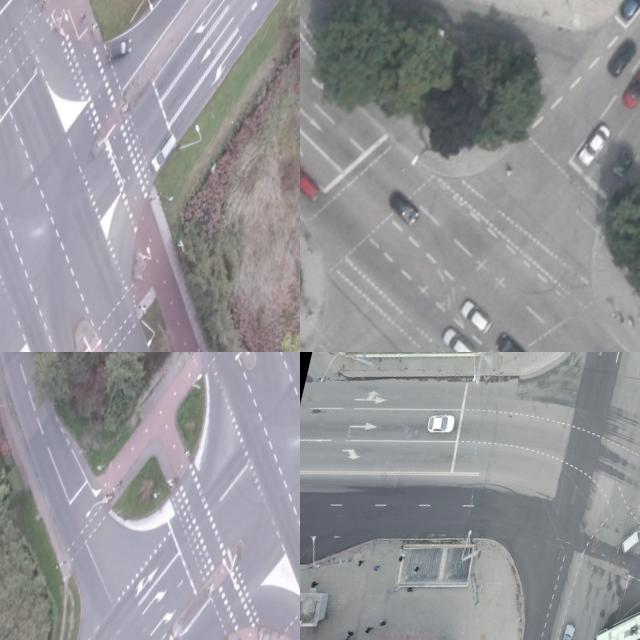UAI: (575, 118, 614, 171), (603, 32, 640, 83), (456, 297, 498, 337), (385, 189, 425, 229), (149, 126, 179, 174), (436, 322, 483, 352), (423, 407, 457, 441), (300, 160, 326, 203), (105, 32, 135, 66), (620, 63, 640, 113), (491, 329, 532, 352), (618, 516, 640, 557), (609, 147, 634, 179), (615, 0, 640, 25), (552, 619, 577, 640)
car: (590, 585, 640, 640)
